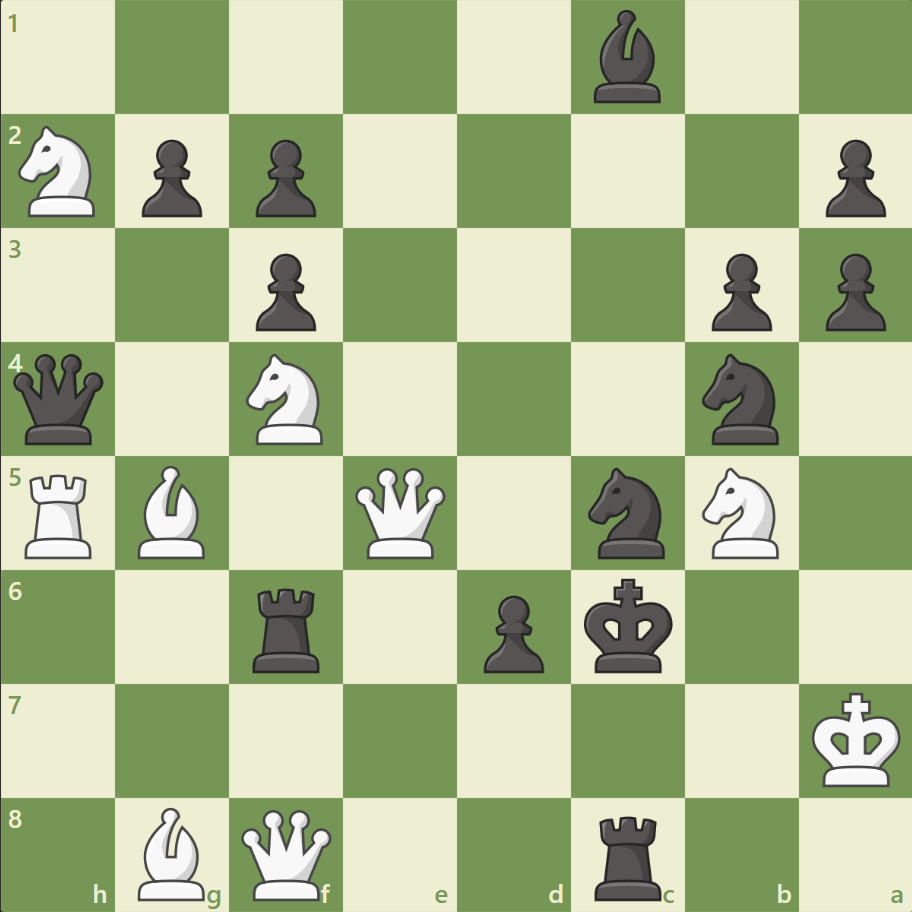B: (131, 801, 215, 904), (131, 460, 215, 563)
K: (806, 685, 906, 793)
N: (692, 461, 789, 564), (238, 348, 335, 450), (11, 121, 108, 223)
Q: (237, 804, 336, 903), (351, 463, 450, 562)
R: (19, 466, 102, 563)
b: (585, 6, 669, 109)
k: (579, 571, 679, 679)
n: (579, 461, 676, 564), (692, 348, 789, 450)
p: (474, 586, 549, 677), (701, 246, 776, 337), (247, 246, 322, 337), (247, 132, 322, 223), (133, 132, 208, 223), (815, 246, 889, 337), (815, 132, 889, 223)
q: (10, 349, 109, 449)
r: (587, 806, 670, 904), (246, 579, 329, 676)
